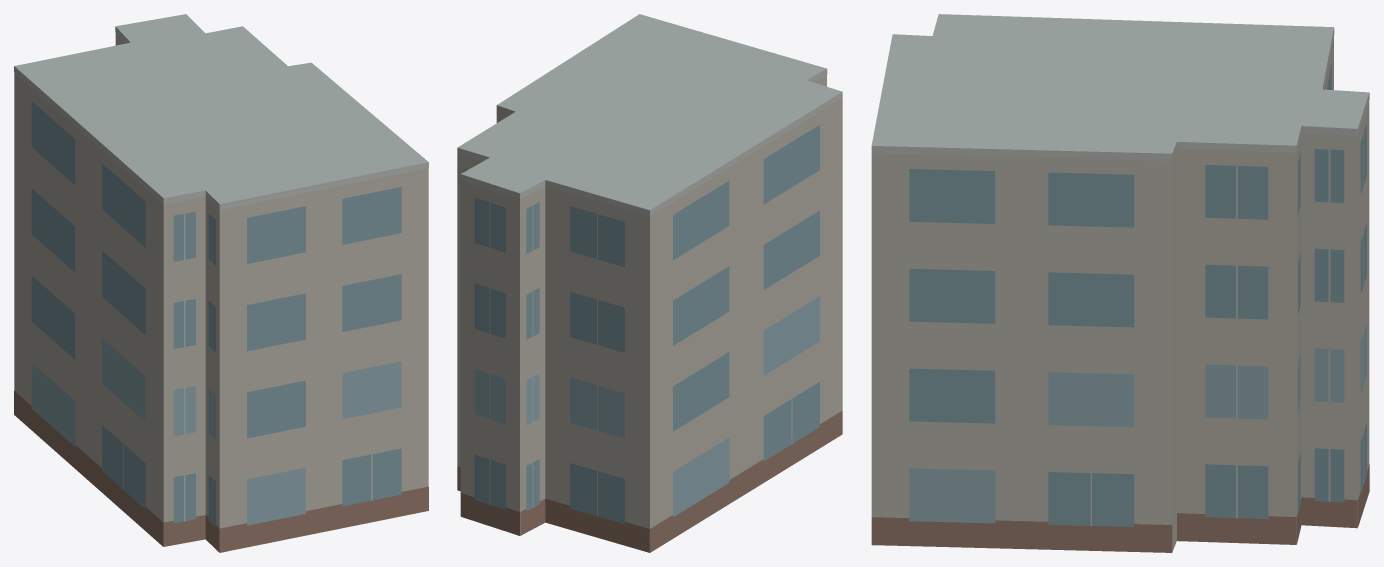
The model's file is survey-upis-32782963.glb.
3 renders of one model, left to right at view 1: azimuth 30°, elevation 25°; view 2: azimuth 150°, elevation 25°; view 3: azimuth 270°, elevation 25°, orthographic. The views are drawn at different scales.
Visible parts, largest first — view 1: survey-upis-32782963.tmp; view 2: survey-upis-32782963.tmp; view 3: survey-upis-32782963.tmp.
Part boxes in pixels (bbox=[...]): survey-upis-32782963.tmp: bbox=[14, 14, 428, 552]; survey-upis-32782963.tmp: bbox=[457, 14, 842, 552]; survey-upis-32782963.tmp: bbox=[871, 14, 1369, 552].
Bounding box in the file's own units: 10.15 × 13.52 × 15.29.
